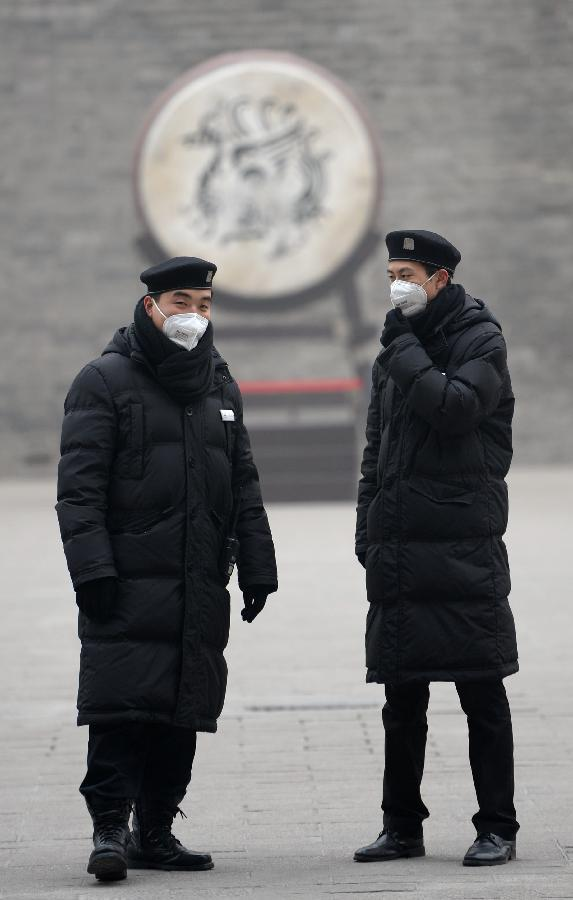OK: (153, 289, 208, 344), (385, 266, 435, 316)
